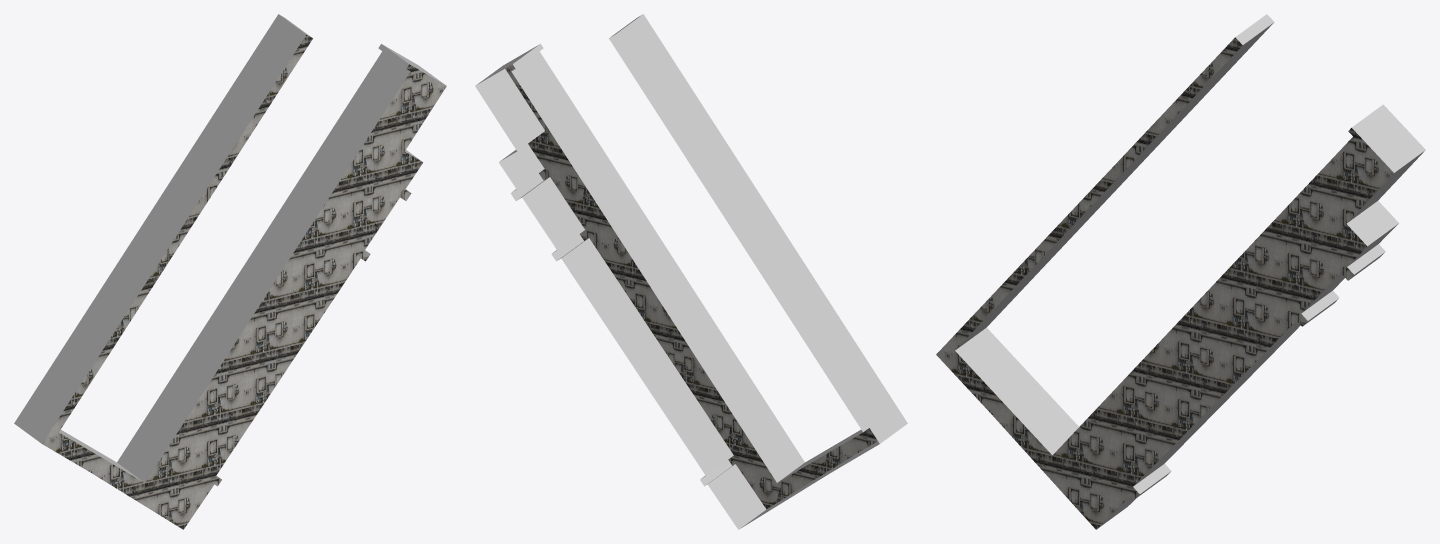
Rendered from geospecific_2344.obj.
The picture shows the model from 3 angles, left to right: view 1: azimuth 30°, elevation 25°; view 2: azimuth 150°, elevation 25°; view 3: azimuth 330°, elevation 25°; orthographic projection. The views are drawn at different scales.
Parts seen in each view (by area): view 1: Building; view 2: Building; view 3: Building.
Boxes of the visible parts, x1=… form: Building: x1=14, y1=14, x2=446, y2=529; Building: x1=475, y1=14, x2=907, y2=529; Building: x1=936, y1=14, x2=1425, y2=529.
Size of the model in its own units: 99.99 by 110 by 12.
